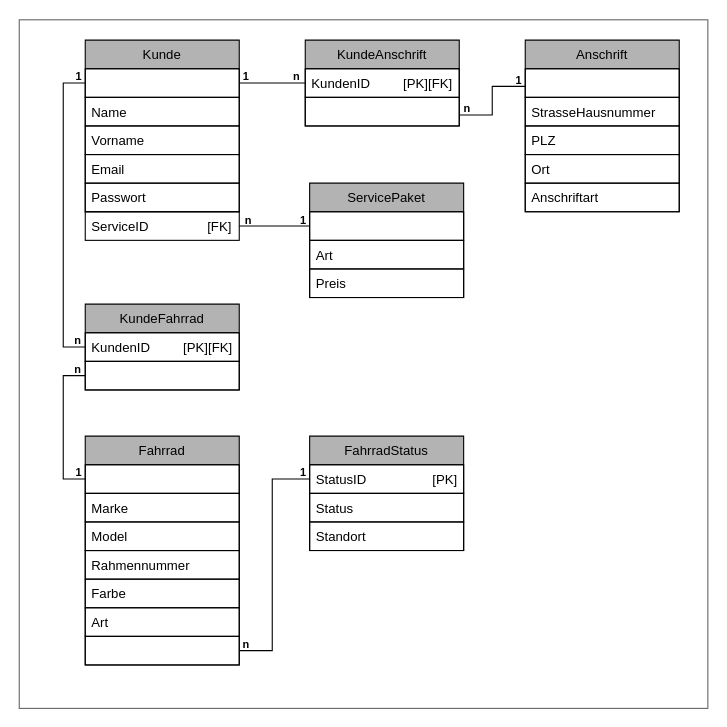
Image size: 727x727. Some labels were removed from this diagram. Each missing label, with the centre of its shape:
AnschriftID [PK]: (601,82)
AnschriftID [PK][FK]: (381,111)
FahrradID [PK]: (161,478)
FahrradID [PK][FK]: (161,375)
KundenID [PK]: (161,82)
ServiceID [PK]: (386,225)
StatusID [FK]: (161,650)
